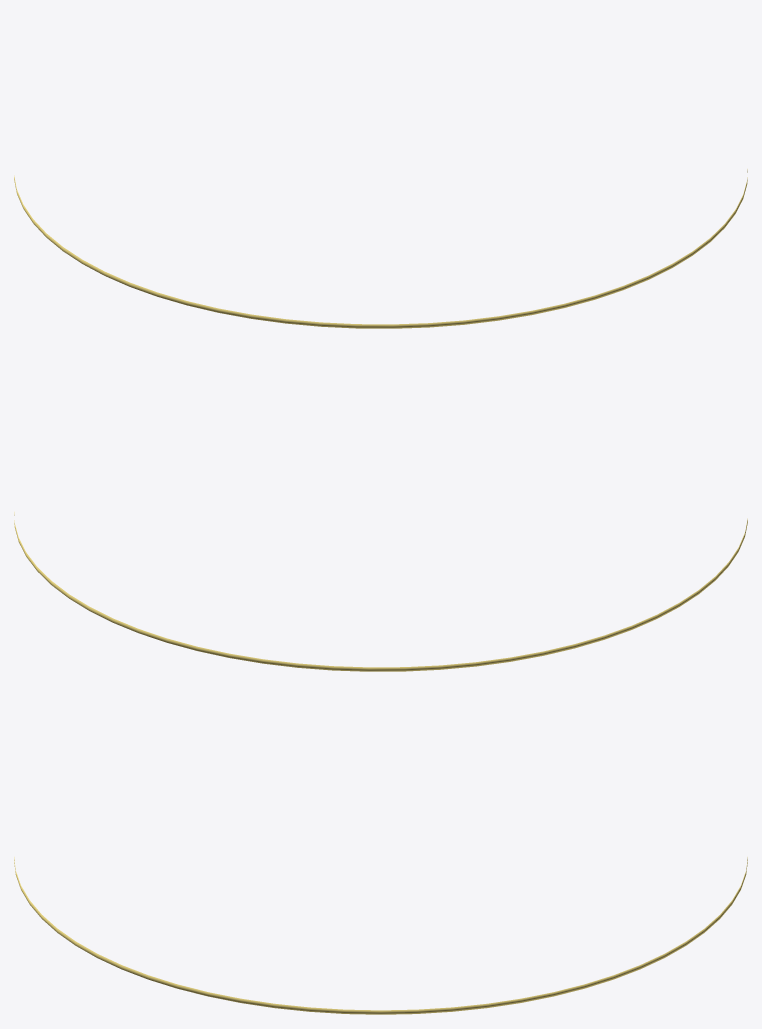
Rendered from krazek.glb.
The picture shows the model from 3 angles, top to bottom: view 1: azimuth 30°, elevation 25°; view 2: azimuth 150°, elevation 25°; view 3: azimuth 270°, elevation 25°; orthographic projection.
Parts seen in each view (by area): view 1: Miejsce na szkielet; view 2: Miejsce na szkielet; view 3: Miejsce na szkielet.
Part boxes in pixels (bbox=[...]): Miejsce na szkielet: bbox=[14, 169, 747, 328]; Miejsce na szkielet: bbox=[14, 512, 747, 671]; Miejsce na szkielet: bbox=[14, 857, 747, 1014].
Bounding box in the file's own units: 0.9 × 0.006 × 0.9.
